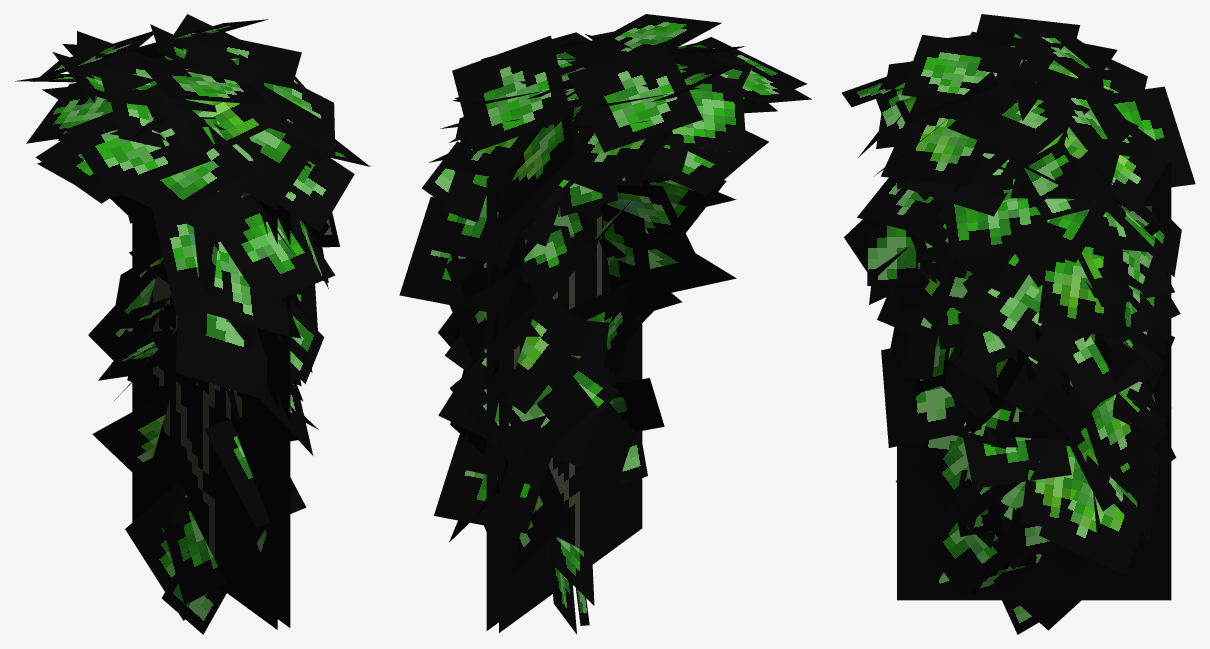
File: vine_1.gltf
The picture shows the model from 3 angles, left to right: view 1: azimuth 30°, elevation 25°; view 2: azimuth 150°, elevation 25°; view 3: azimuth 270°, elevation 25°; orthographic projection. The views are drawn at different scales.
Visible parts, largest first — view 1: vine_1_thick_full_wrap_top; view 2: vine_1_thick_full_wrap_top; view 3: vine_1_thick_full_wrap_top.
Part boxes in pixels (left/top/right/bottom): vine_1_thick_full_wrap_top: left=15, top=14, right=370, bottom=634; vine_1_thick_full_wrap_top: left=399, top=14, right=811, bottom=634; vine_1_thick_full_wrap_top: left=841, top=14, right=1195, bottom=634.
Bounding box in the file's own units: 1.3 × 2.5 × 1.4.
Materials: 1 (1 with a texture image).
